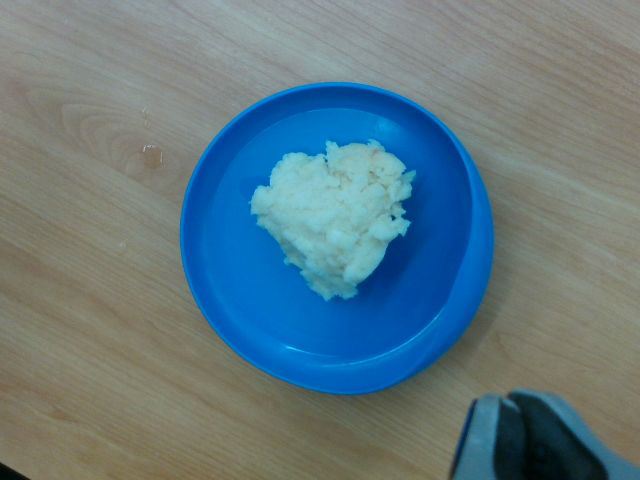mashed_potato: (248, 141, 414, 300)
